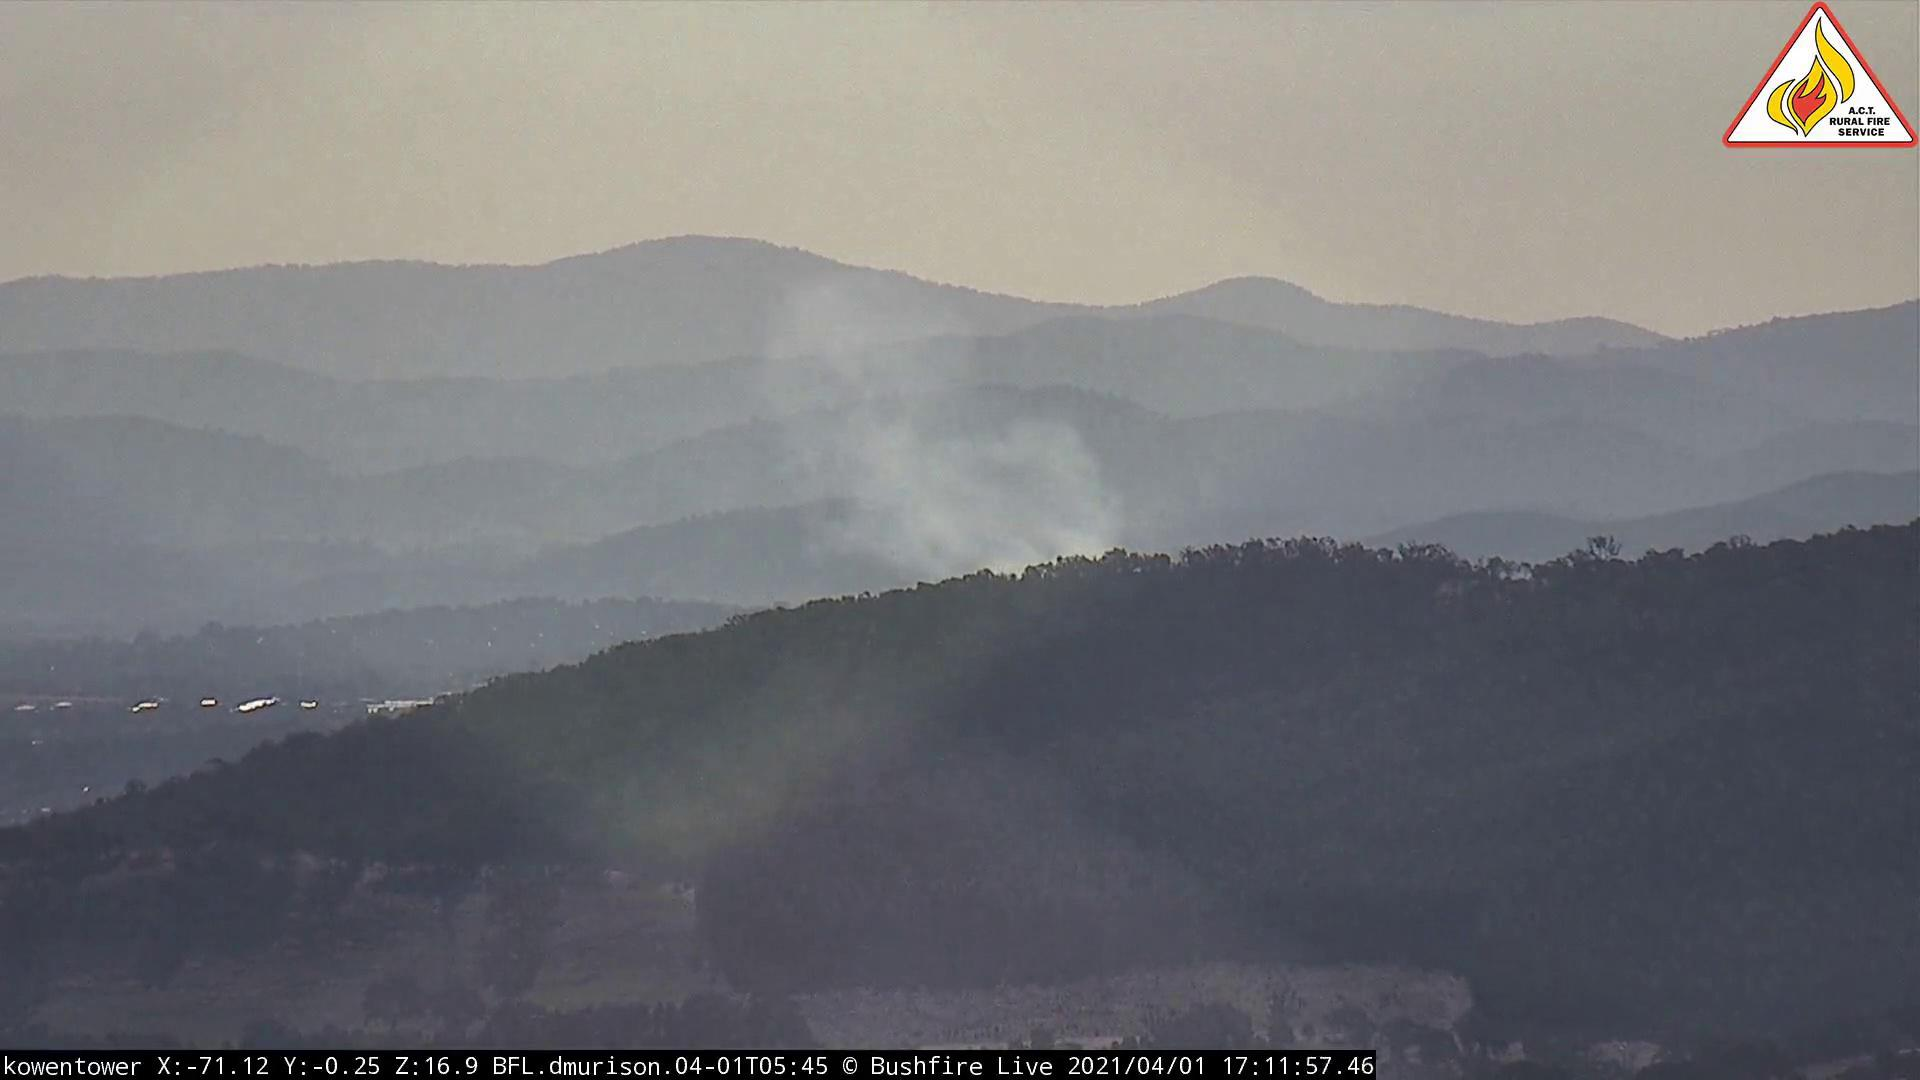Smoke: (750, 268, 1185, 632)
